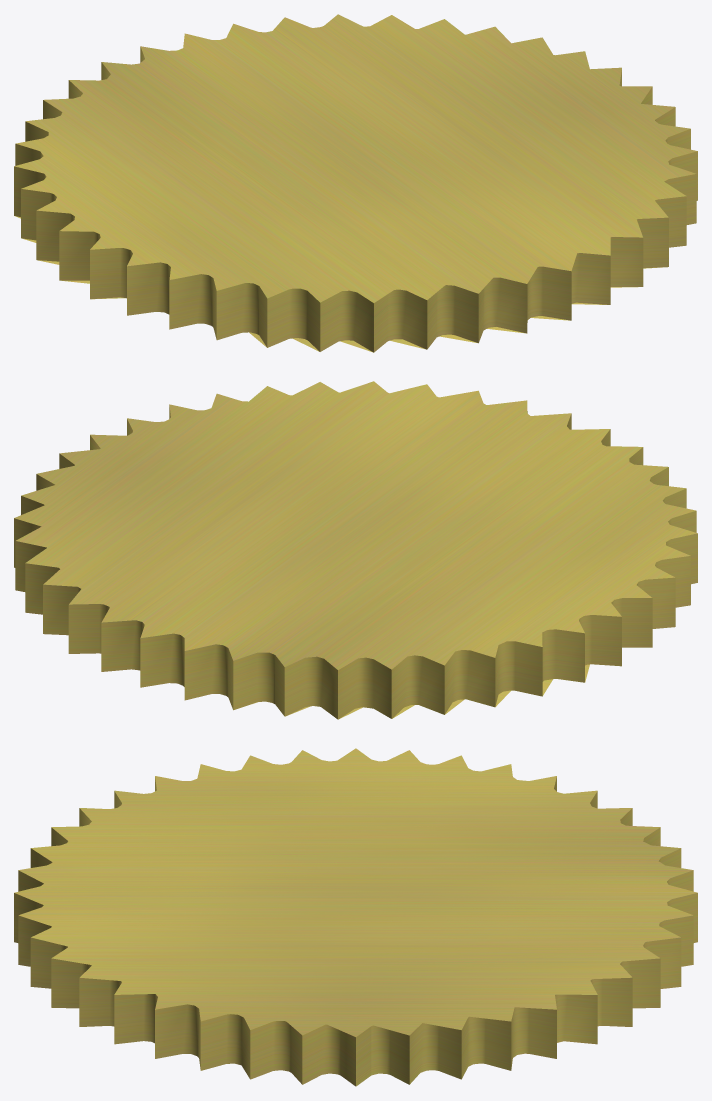
Rendered from SprocketFacet6Spoke040.fbx.
3 views of the same model, one above another, from view 1: azimuth 30°, elevation 25°; view 2: azimuth 150°, elevation 25°; view 3: azimuth 270°, elevation 25° (orthographic).
Parts seen in each view (by area): view 1: SprocketFacet6Spoke040; view 2: SprocketFacet6Spoke040; view 3: SprocketFacet6Spoke040.
Boxes of the visible parts, bbox=[...] form: SprocketFacet6Spoke040: bbox=[14, 14, 697, 352]; SprocketFacet6Spoke040: bbox=[14, 381, 697, 719]; SprocketFacet6Spoke040: bbox=[14, 748, 697, 1086].
Bounding box in the file's own units: 247 × 19.69 × 247.
